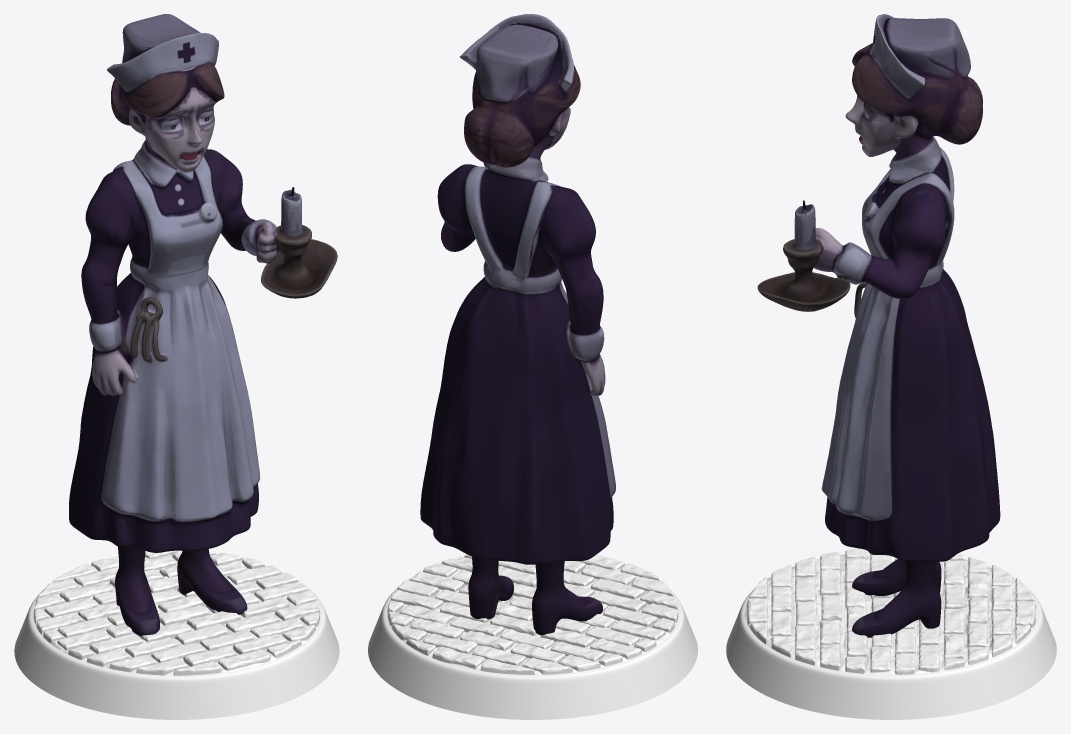
File: enfermeira_base_apagada.glb
3 renders of one model, left to right at view 1: azimuth 30°, elevation 25°; view 2: azimuth 150°, elevation 25°; view 3: azimuth 270°, elevation 25°, orthographic.
Parts seen in each view (by area): view 1: mesh_node, Object_3.002; view 2: mesh_node, Object_3.002; view 3: mesh_node, Object_3.002.
Part boxes in pixels (bbox=[...]): mesh_node: bbox=[69, 14, 337, 635]; Object_3.002: bbox=[14, 550, 339, 719]; mesh_node: bbox=[420, 14, 615, 635]; Object_3.002: bbox=[368, 554, 697, 719]; mesh_node: bbox=[757, 14, 1000, 637]; Object_3.002: bbox=[726, 548, 1056, 719].
Bounding box in the file's own units: 0.4185 × 0.8811 × 0.4185.
2 materials, 1 textured.
